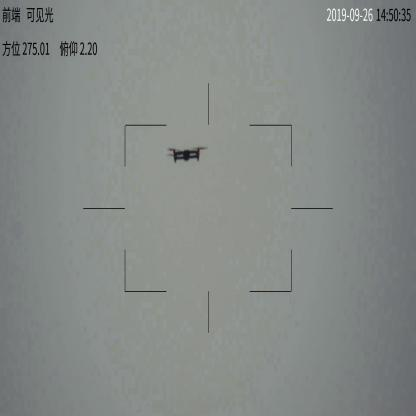uav: (167, 144, 207, 164)
